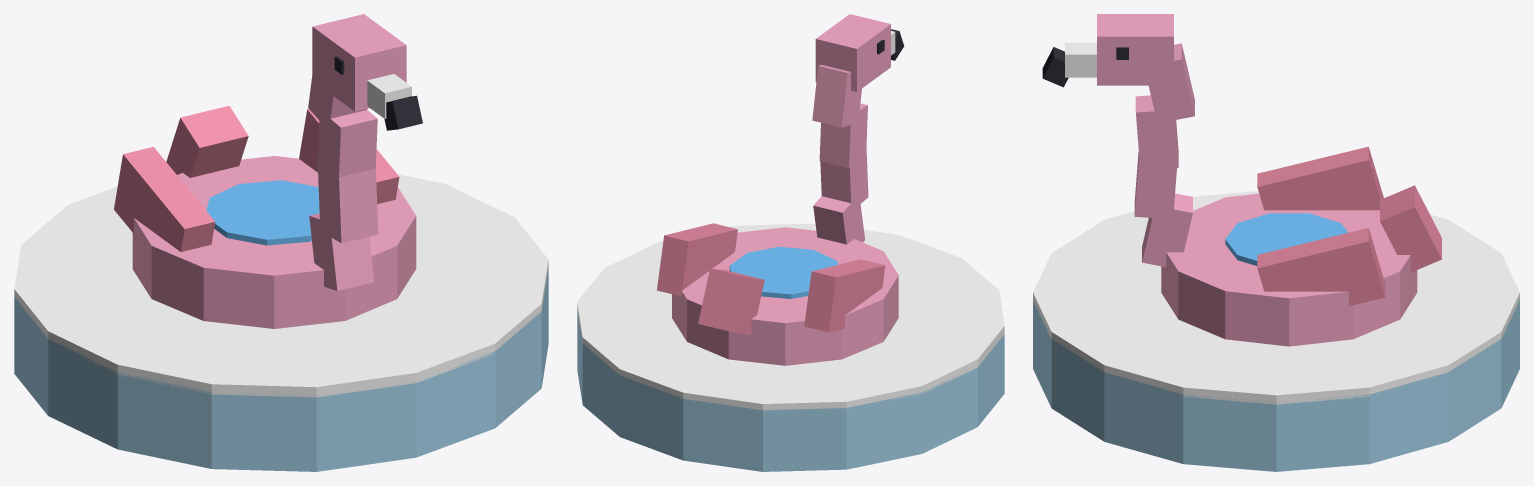
Rendered from CatCafe_Decor_FlamingoFloat.glb.
The picture shows the model from 3 angles, left to right: view 1: azimuth 30°, elevation 25°; view 2: azimuth 150°, elevation 25°; view 3: azimuth 270°, elevation 25°; orthographic projection. The views are drawn at different scales.
Parts seen in each view (by area): view 1: CatCafe_Decor_FlamingoFloat; view 2: CatCafe_Decor_FlamingoFloat; view 3: CatCafe_Decor_FlamingoFloat.
Part boxes in pixels (x1=…): CatCafe_Decor_FlamingoFloat: x1=14, y1=14, x2=548, y2=471; CatCafe_Decor_FlamingoFloat: x1=577, y1=14, x2=1004, y2=471; CatCafe_Decor_FlamingoFloat: x1=1033, y1=14, x2=1519, y2=471.
Bounding box in the file's own units: 3.8 × 2.96 × 3.8.
Materials: 1 (1 with a texture image).
